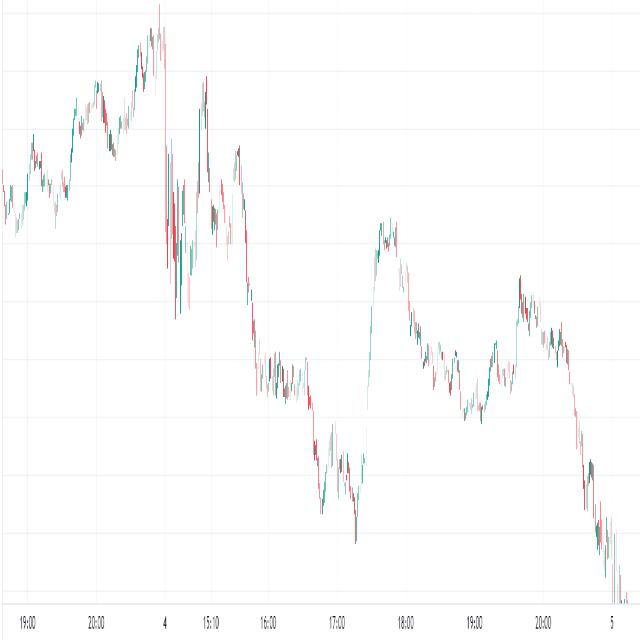Rounding-Bottom: (405, 266, 525, 438)
rectangle: (254, 348, 312, 412)
